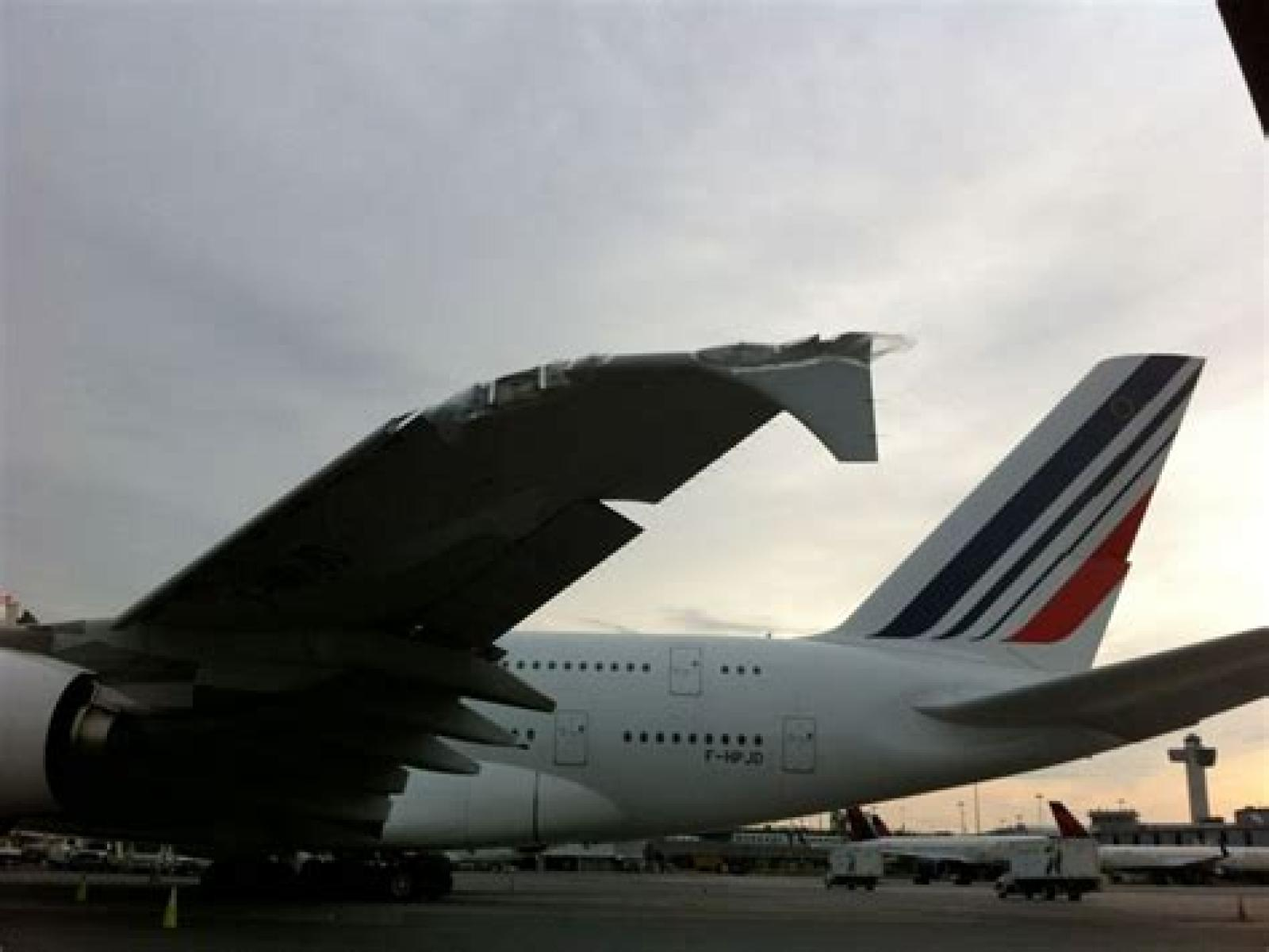Skin_Cover: (394, 332, 902, 461)
Wing_damage: (410, 332, 900, 461)
